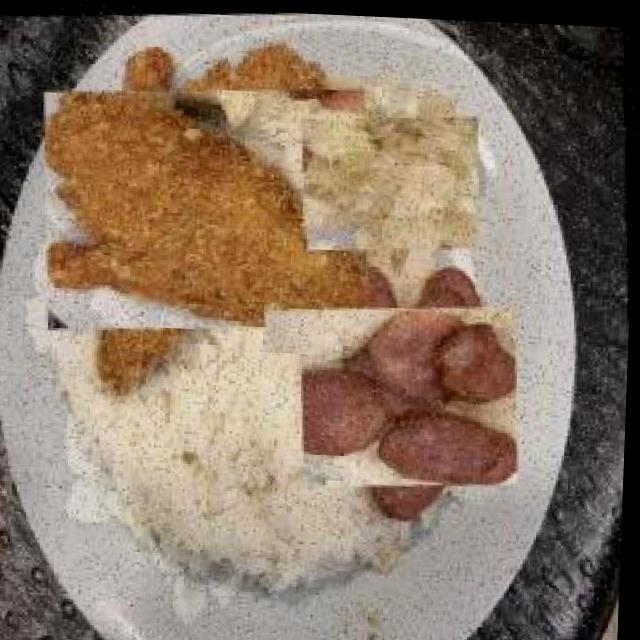chinese_cabbage: (311, 96, 479, 265)
chinese_sausage: (279, 278, 510, 511)
fried_chicken: (58, 57, 359, 361)
rice: (150, 346, 315, 579)
